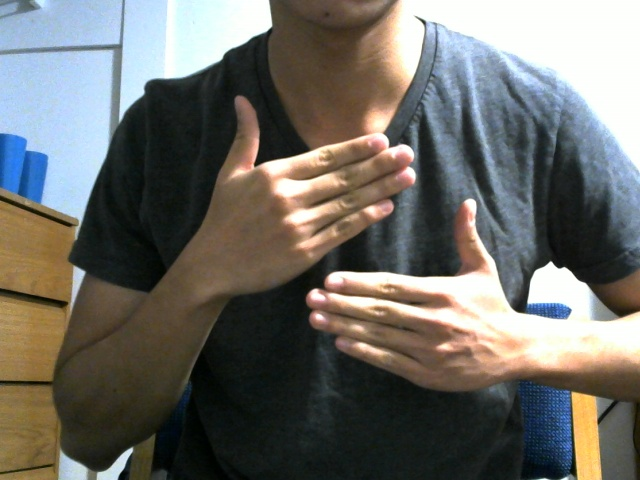Enjoy: (182, 91, 549, 416)
